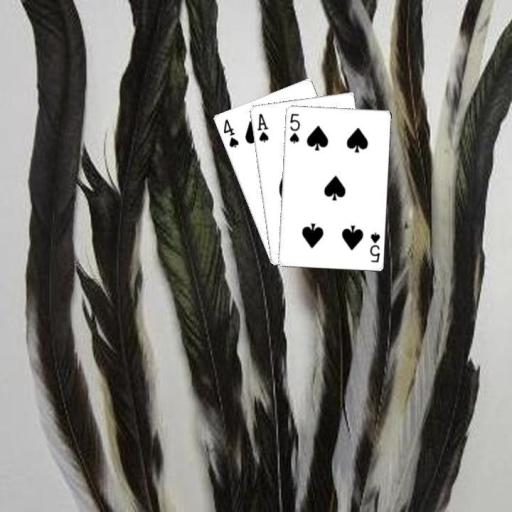4S: (220, 116, 240, 149)
5S: (286, 111, 301, 145), (366, 229, 381, 263)
AS: (254, 110, 269, 144)
